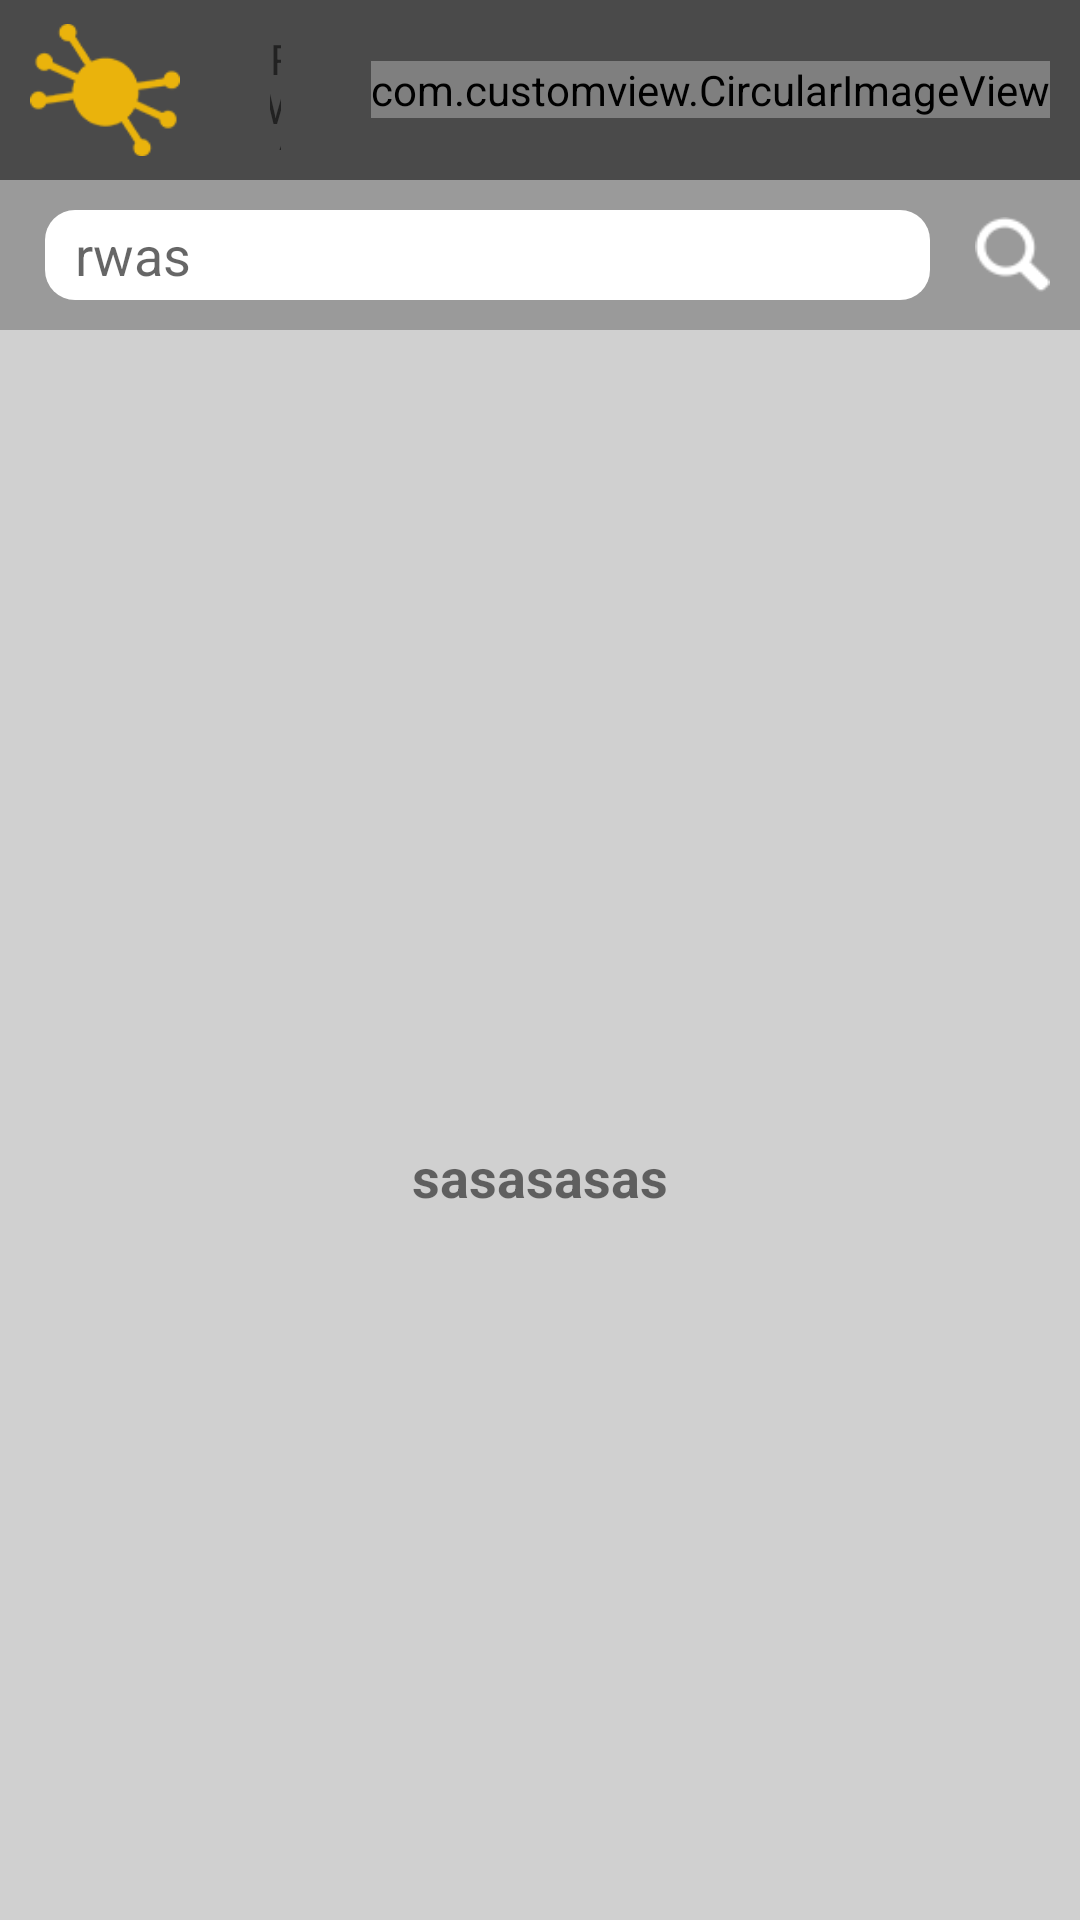

Icon bounding boxes for this 1080x1920 phone screenshot, format (x1, y1, x2, y2):
search: (975, 217, 1050, 291)
